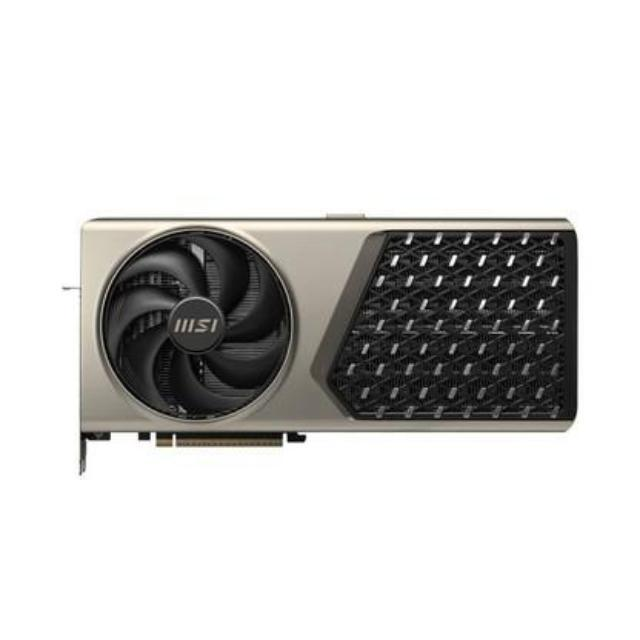GPU: (77, 214, 586, 448)
